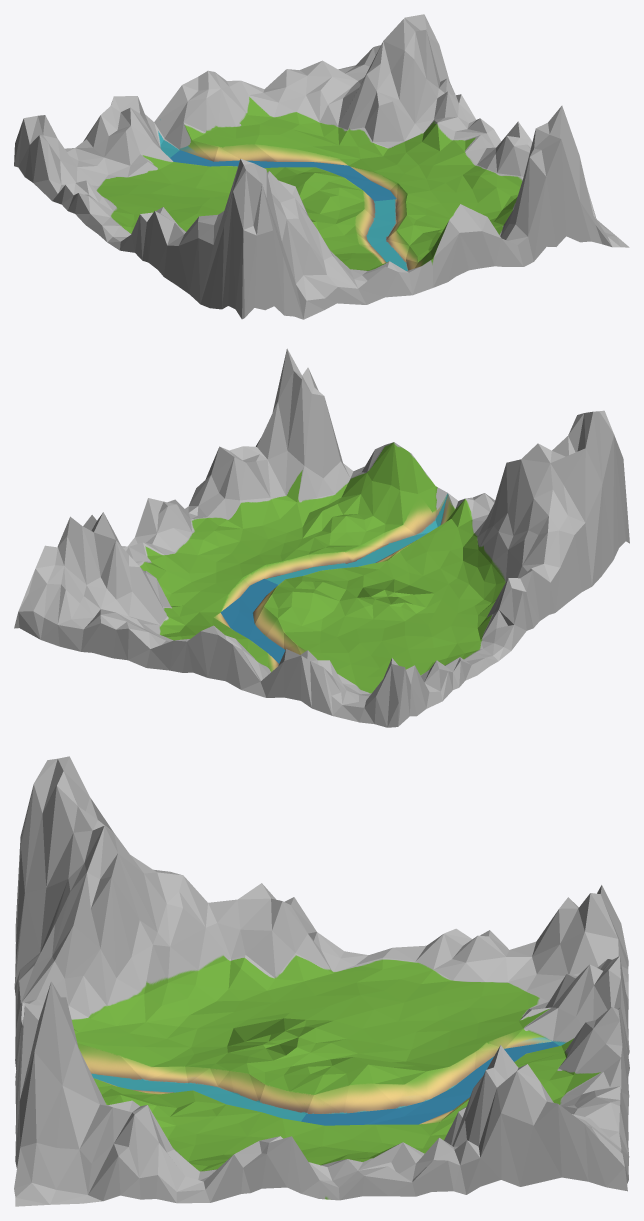
Rendered from MOUNTAIN WITH TEXTURE.fbx.
3 views of the same model, one above another, from view 1: azimuth 30°, elevation 25°; view 2: azimuth 150°, elevation 25°; view 3: azimuth 270°, elevation 25° (orthographic). The views are drawn at different scales.
Parts seen in each view (by area): view 1: map:Mesh; view 2: map:Mesh; view 3: map:Mesh.
Boxes of the visible parts, box(x1,y1,x2,y2) form: map:Mesh: box(14, 14, 629, 319); map:Mesh: box(14, 348, 629, 727); map:Mesh: box(14, 756, 629, 1206).
Bounding box in the file's own units: 514 × 207 × 538.
Materials: 2 (1 with a texture image).
